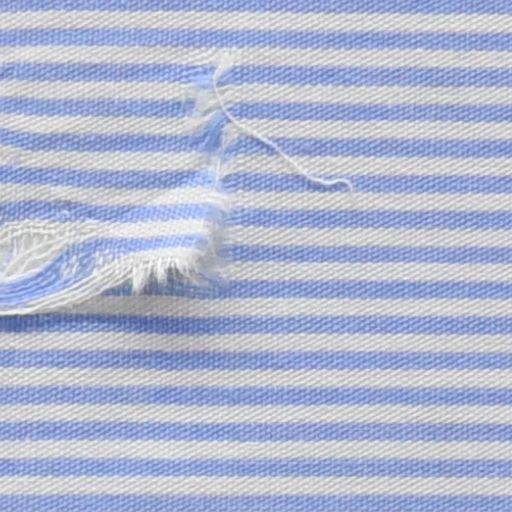defect: (1, 49, 365, 326)
